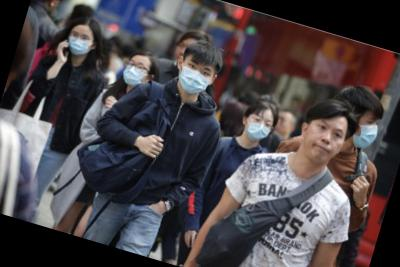with_mask: (175, 57, 218, 101), (352, 112, 384, 155), (62, 28, 97, 61), (243, 110, 275, 146), (120, 56, 152, 91)
without_mask: (300, 115, 347, 170)
